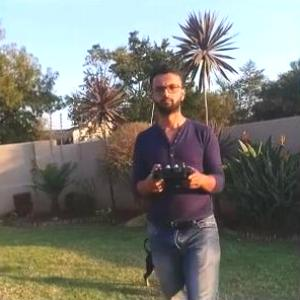follow: (133, 59, 230, 299)
